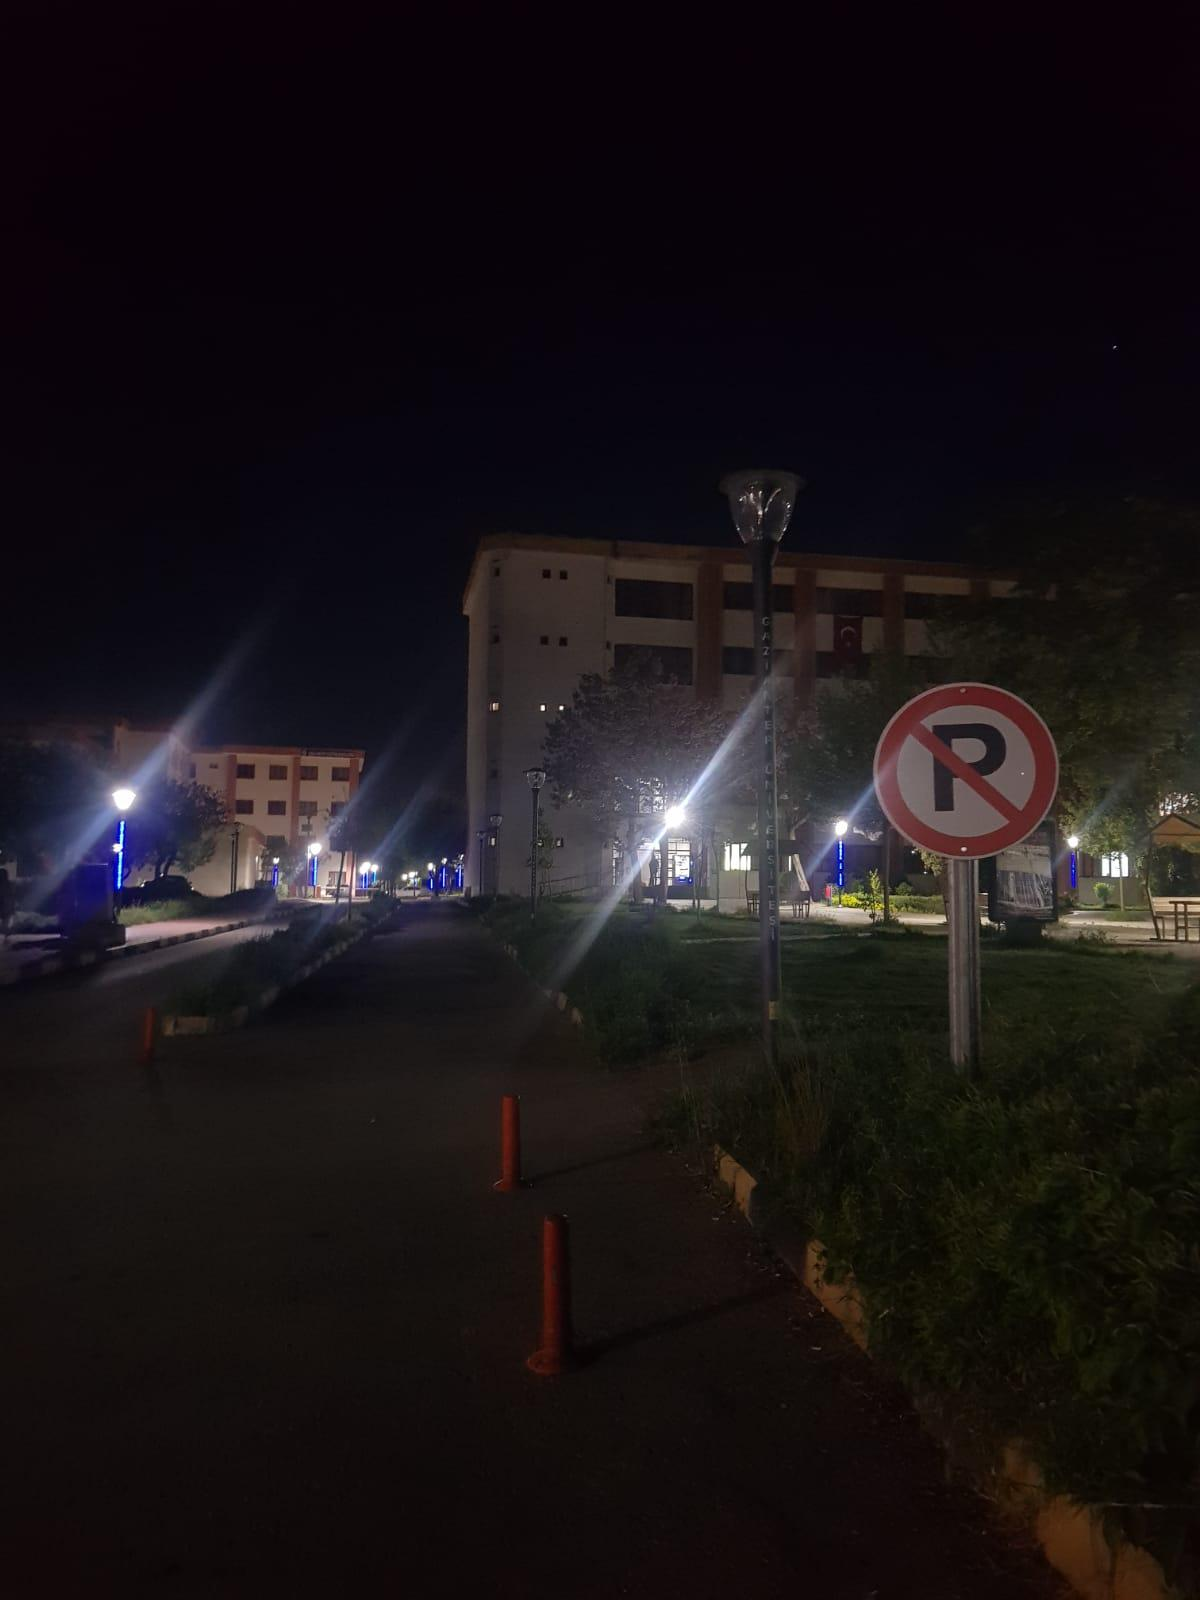nopark: (868, 679, 1065, 860)
